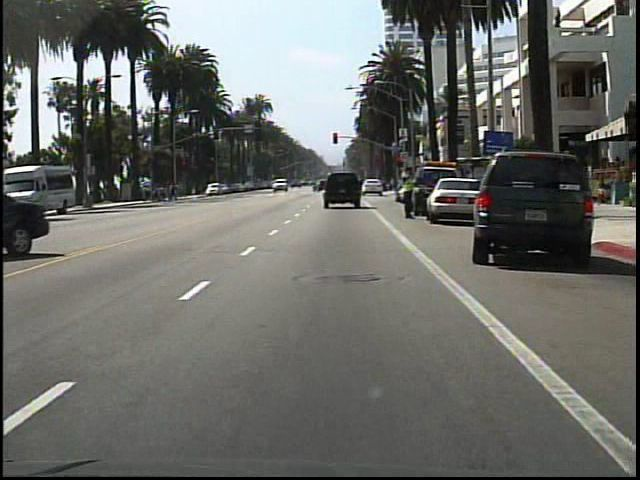person: (398, 164, 418, 219)
